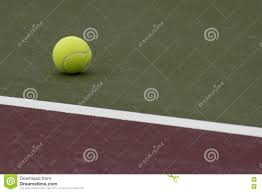tennis_ball: (51, 35, 92, 74)
